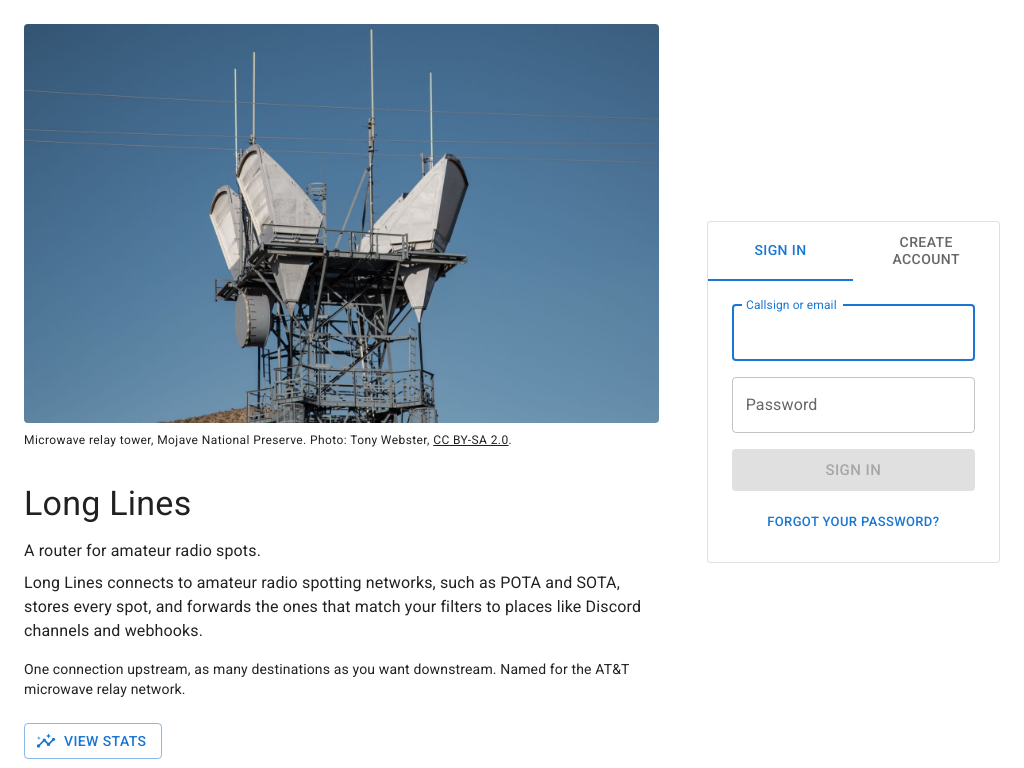
Test: SignInPage: sign in › shows the sign-in error
Type "x" into the field labelled "Callsign or email". click: x=853, y=333
box: [732, 305, 975, 361]
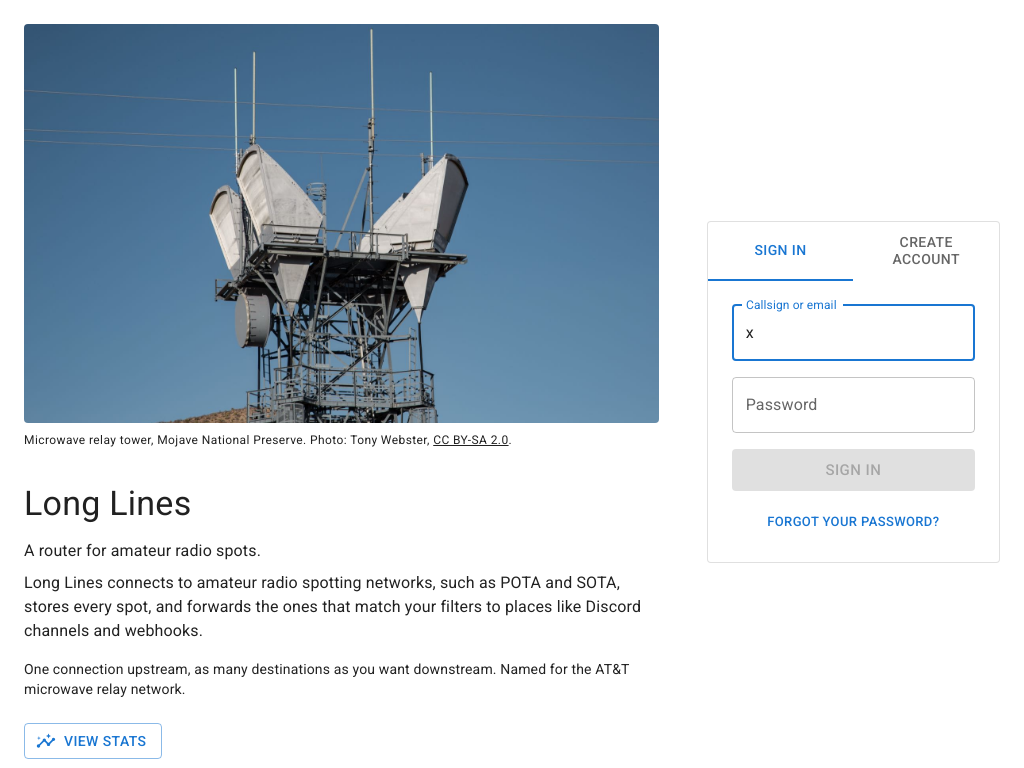
Type "y" into the password field labelled "Password". click: x=853, y=405
box: [732, 377, 975, 433]
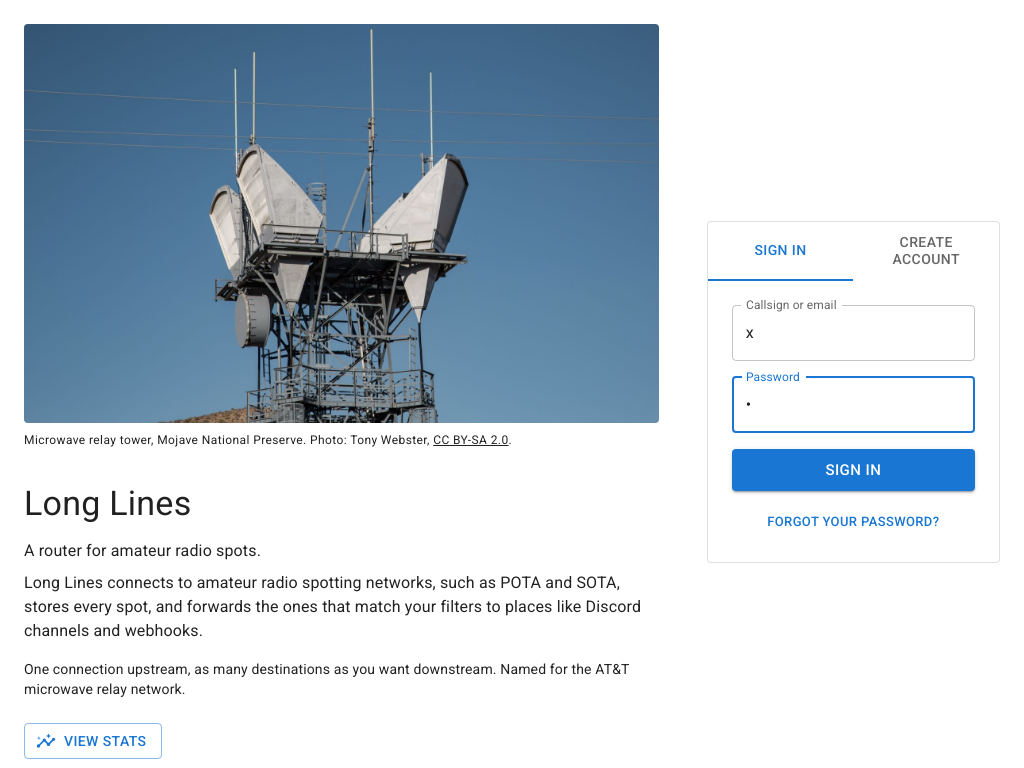
Click the button "Sign in". click: x=853, y=470
box: [732, 449, 975, 491]
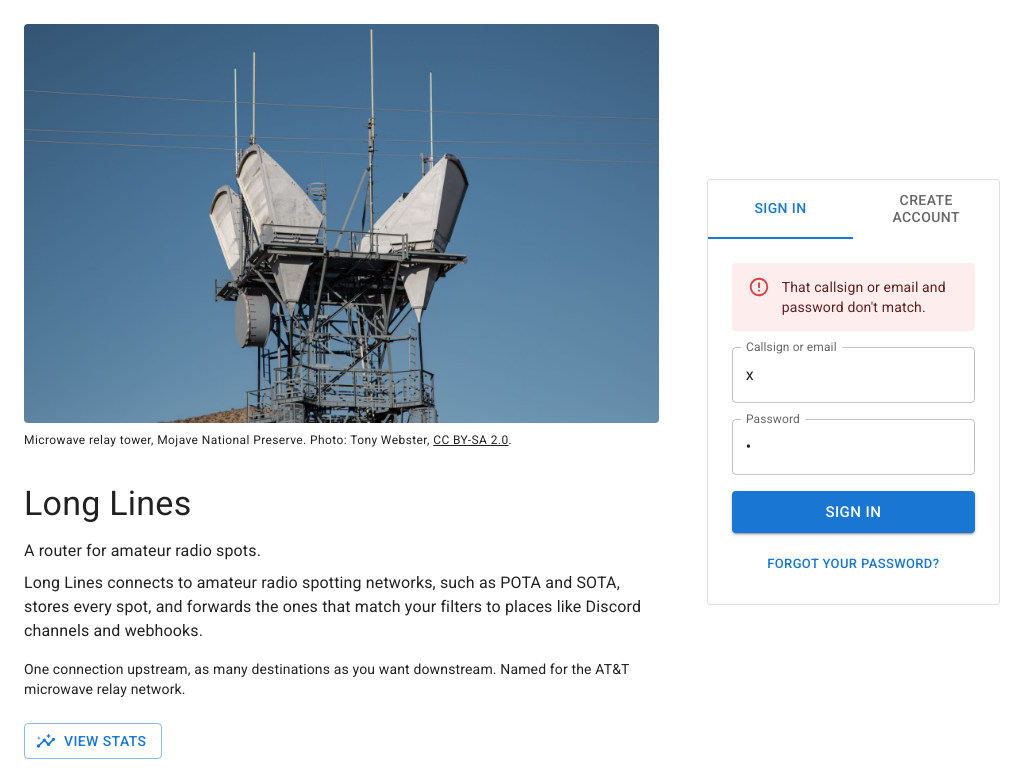
Result: the text "That callsign or email and password don't match." is shown at [782, 269, 959, 325]
